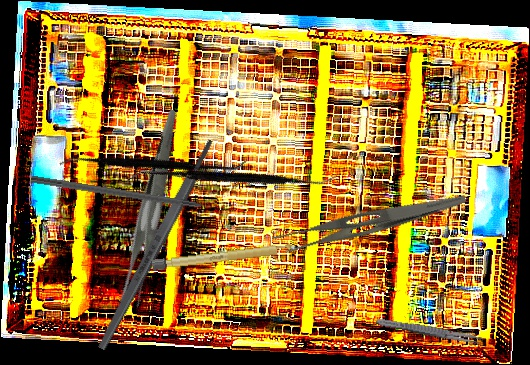Dressing Forceps: (71, 108, 235, 312), (270, 173, 468, 265), (375, 316, 486, 346)
Hook Surgical: (30, 175, 228, 216)
Scalpel Handle: (94, 137, 218, 352), (151, 242, 298, 271)
Spatula Surgical: (126, 88, 337, 271), (57, 78, 249, 246)
